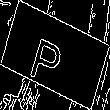P_N: (35, 25, 75, 85)
